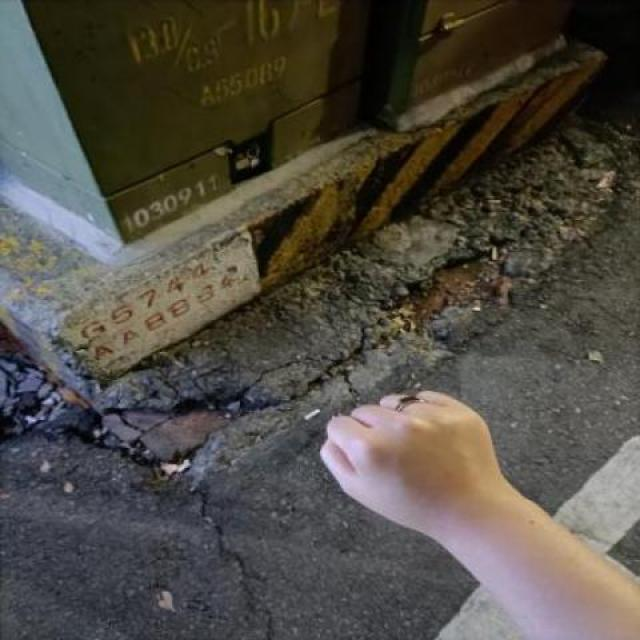Closed Hand: (304, 363, 504, 549)
